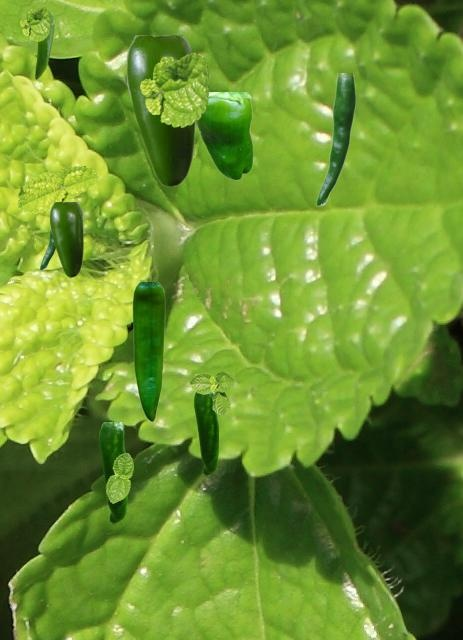green_chili: (127, 35, 194, 186), (315, 73, 354, 205), (195, 92, 252, 179), (132, 282, 164, 420), (99, 422, 126, 522), (50, 202, 82, 276), (194, 391, 217, 474), (35, 10, 53, 78), (39, 229, 55, 269)
